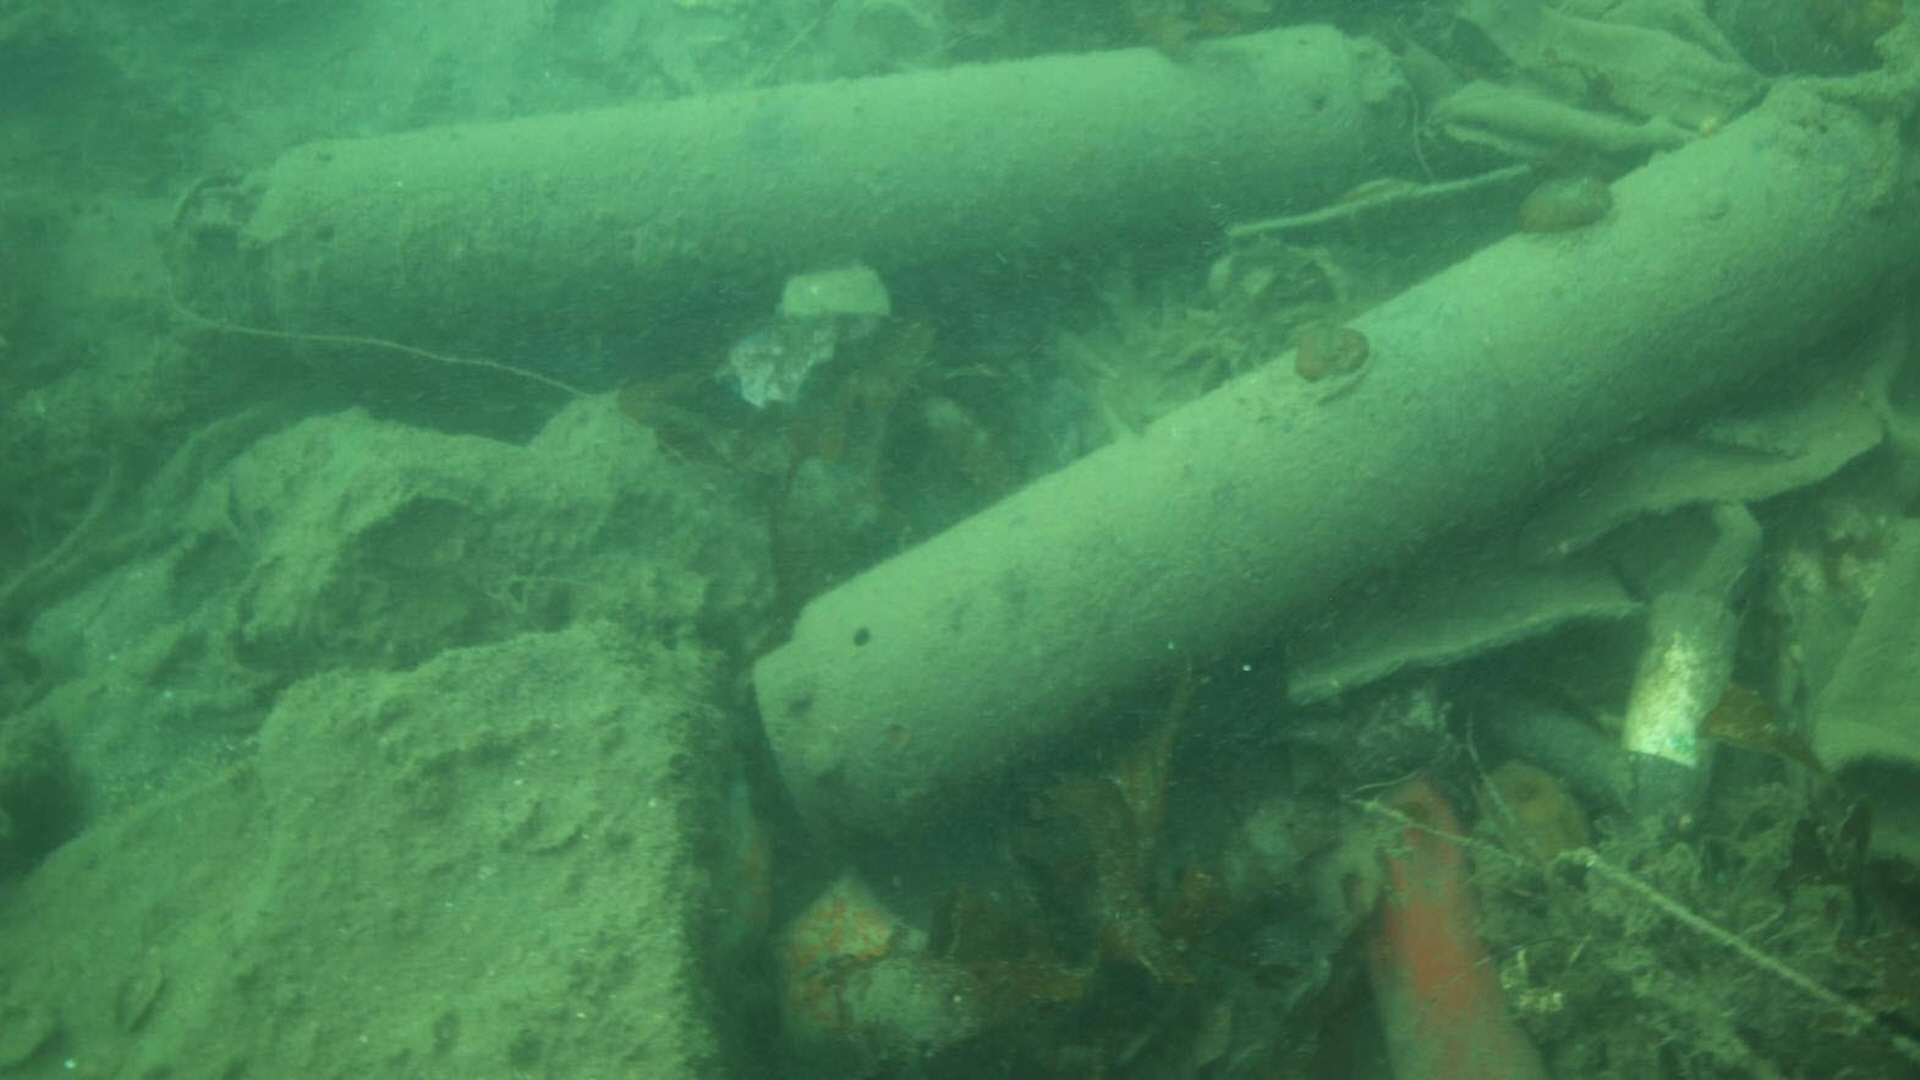eel fish trap: (750, 94, 1912, 831), (185, 21, 1404, 349)
